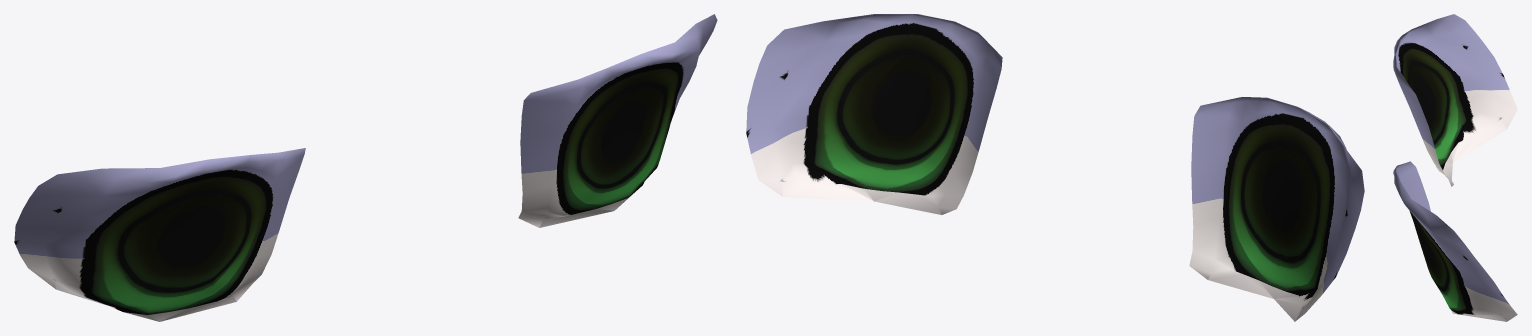
The model's file is eyes green 1.fbx.
3 views of the same model, side by side, from view 1: azimuth 30°, elevation 25°; view 2: azimuth 150°, elevation 25°; view 3: azimuth 270°, elevation 25° (orthographic). The views are drawn at different scales.
Visible parts, largest first — view 1: カスタム少女_mesh; view 2: カスタム少女_mesh; view 3: カスタム少女_mesh.
Boxes of the visible parts, <box> form: カスタム少女_mesh: <box>14,14,717,321</box>; カスタム少女_mesh: <box>746,14,1364,321</box>; カスタム少女_mesh: <box>1393,14,1517,321</box>.
Size of the model in its own units: 14.62 by 3.84 by 3.41.
Materials: 1 (1 with a texture image).
